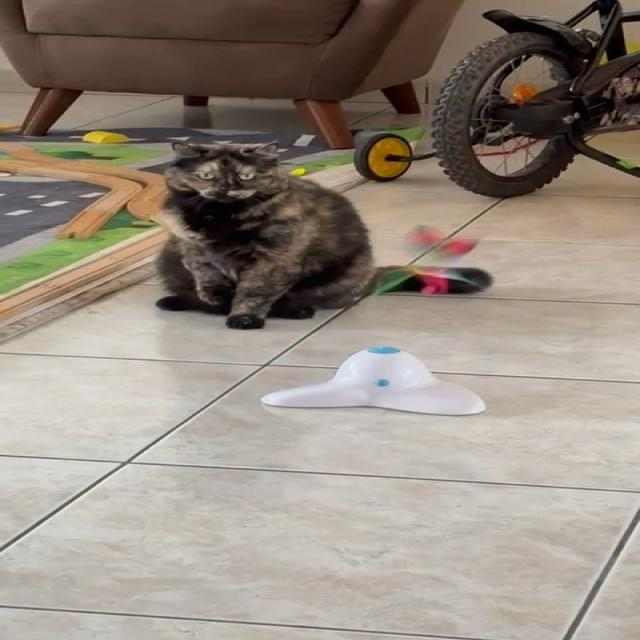authorized: (153, 138, 376, 330)
